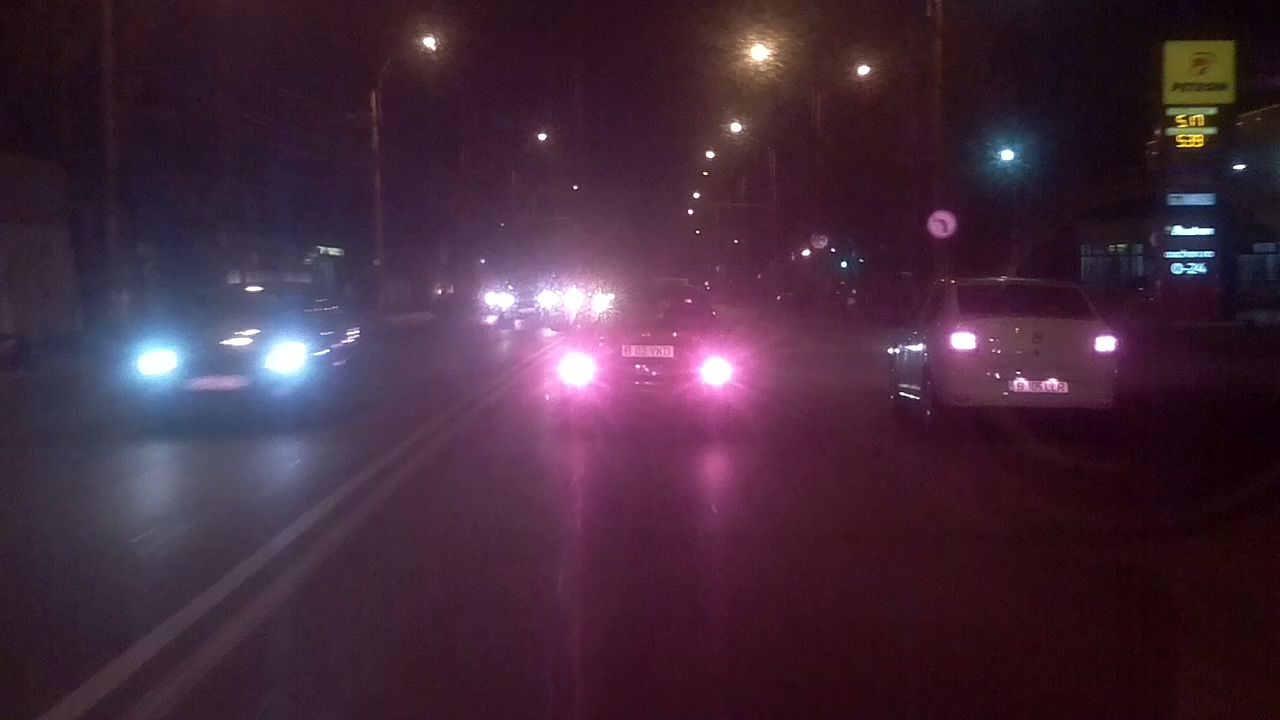license-plate: (1007, 376, 1071, 396), (617, 343, 676, 360)
